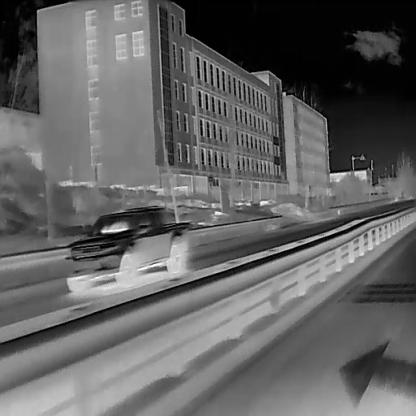truck: (62, 202, 193, 298)
